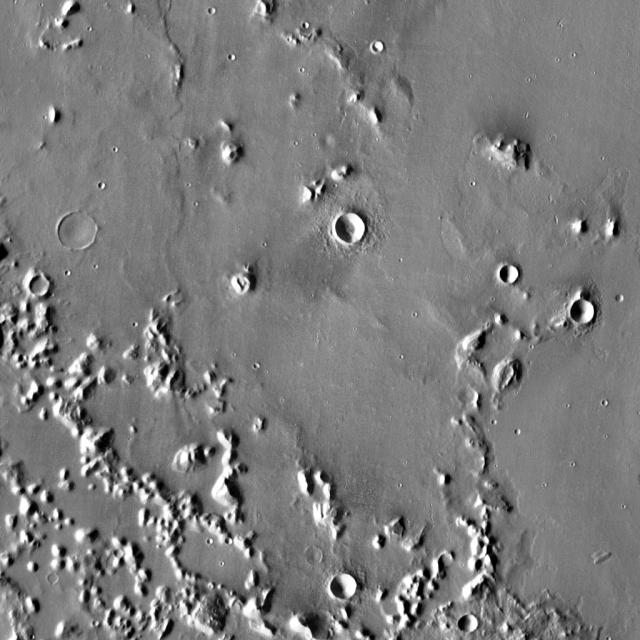crater: (60, 212, 100, 252), (336, 216, 366, 246), (331, 574, 356, 599), (572, 300, 596, 325), (30, 274, 51, 296), (461, 615, 480, 634), (501, 266, 521, 284), (307, 549, 325, 567), (460, 389, 478, 407), (49, 574, 60, 585), (374, 42, 384, 52), (615, 295, 624, 303), (115, 550, 124, 558), (100, 182, 108, 190), (229, 54, 236, 61), (225, 538, 232, 545), (302, 22, 309, 28), (92, 621, 98, 627)
